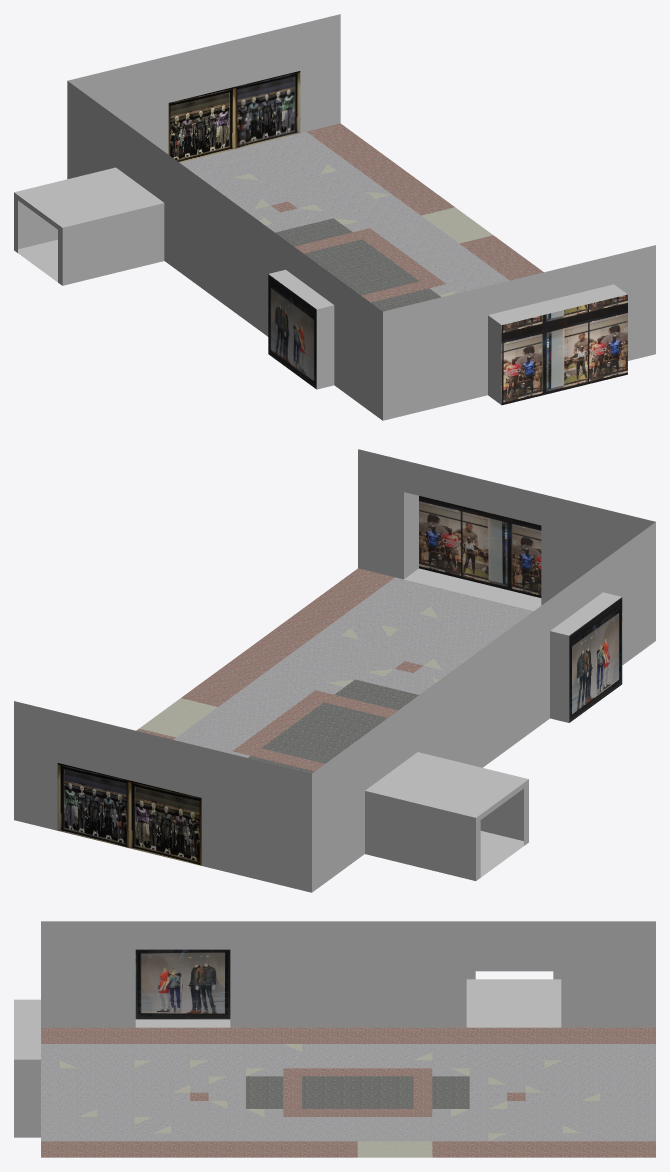
File: MA_MallWall_01.FBX
The picture shows the model from 3 angles, top to bottom: view 1: azimuth 30°, elevation 25°; view 2: azimuth 150°, elevation 25°; view 3: azimuth 270°, elevation 25°; orthographic projection. The views are drawn at different scales.
Visible parts, largest first — view 1: MA_MallWall_01; view 2: MA_MallWall_01; view 3: MA_MallWall_01.
Part boxes in pixels (x1=…): MA_MallWall_01: x1=14, y1=14, x2=655, y2=420; MA_MallWall_01: x1=14, y1=449, x2=655, y2=892; MA_MallWall_01: x1=14, y1=921, x2=655, y2=1157.
Bounding box in the file's own units: 1841 × 512 × 2799.
